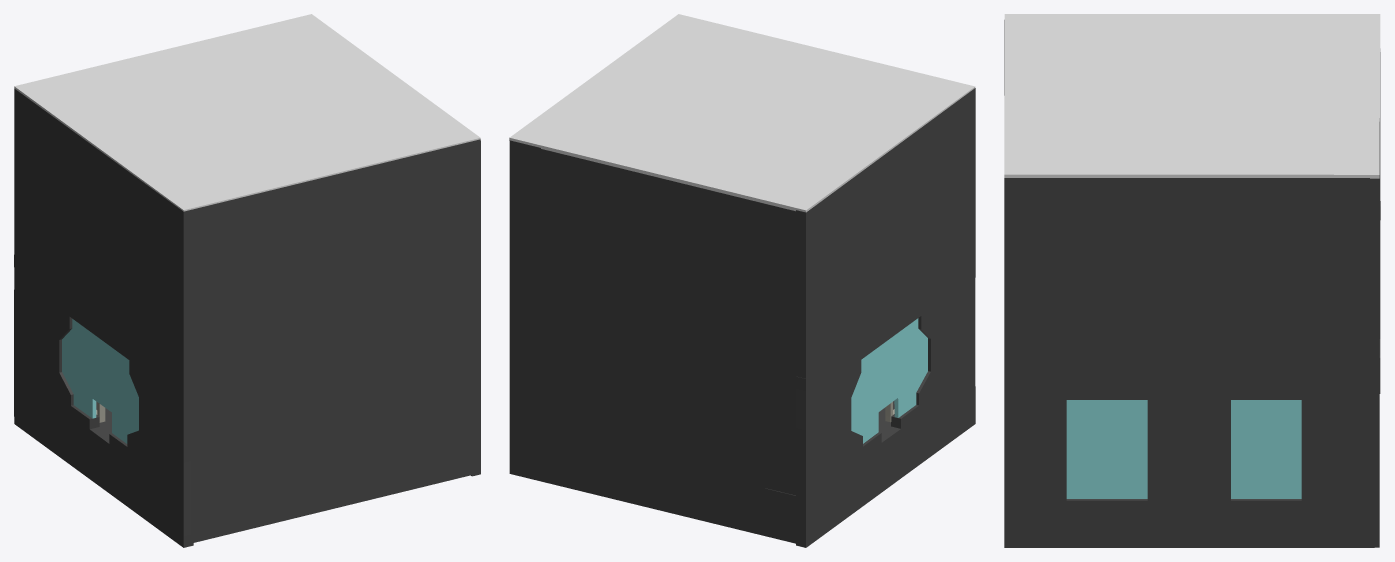
The model's file is OfficeMainV1.5.fbx.
3 renders of one model, left to right at view 1: azimuth 30°, elevation 25°; view 2: azimuth 150°, elevation 25°; view 3: azimuth 270°, elevation 25°, orthographic. The views are drawn at different scales.
Visible parts, largest first — view 1: Plane.005, Plane, Plane.008, Plane.001, Plane.004; view 2: Plane.007, Plane, Plane.008, Plane.001; view 3: Plane.004, Plane.008, Plane.002, Plane.007, Plane.
Part boxes in pixels (x1,y1,x2,y2): Plane.005: [191, 139, 480, 543]; Plane: [14, 88, 193, 547]; Plane.008: [14, 14, 480, 211]; Plane.001: [62, 319, 138, 443]; Plane.004: [471, 140, 480, 476]; Plane.007: [509, 140, 795, 543]; Plane: [796, 88, 975, 547]; Plane.008: [509, 14, 975, 212]; Plane.001: [851, 318, 927, 443]; Plane.004: [1004, 178, 1374, 547]; Plane.008: [1004, 14, 1380, 178]; Plane.002: [1066, 400, 1301, 498]; Plane.007: [1374, 178, 1379, 547]; Plane: [1379, 52, 1380, 393].
Bounding box in the file's own units: 5293 × 5746 × 5235.
